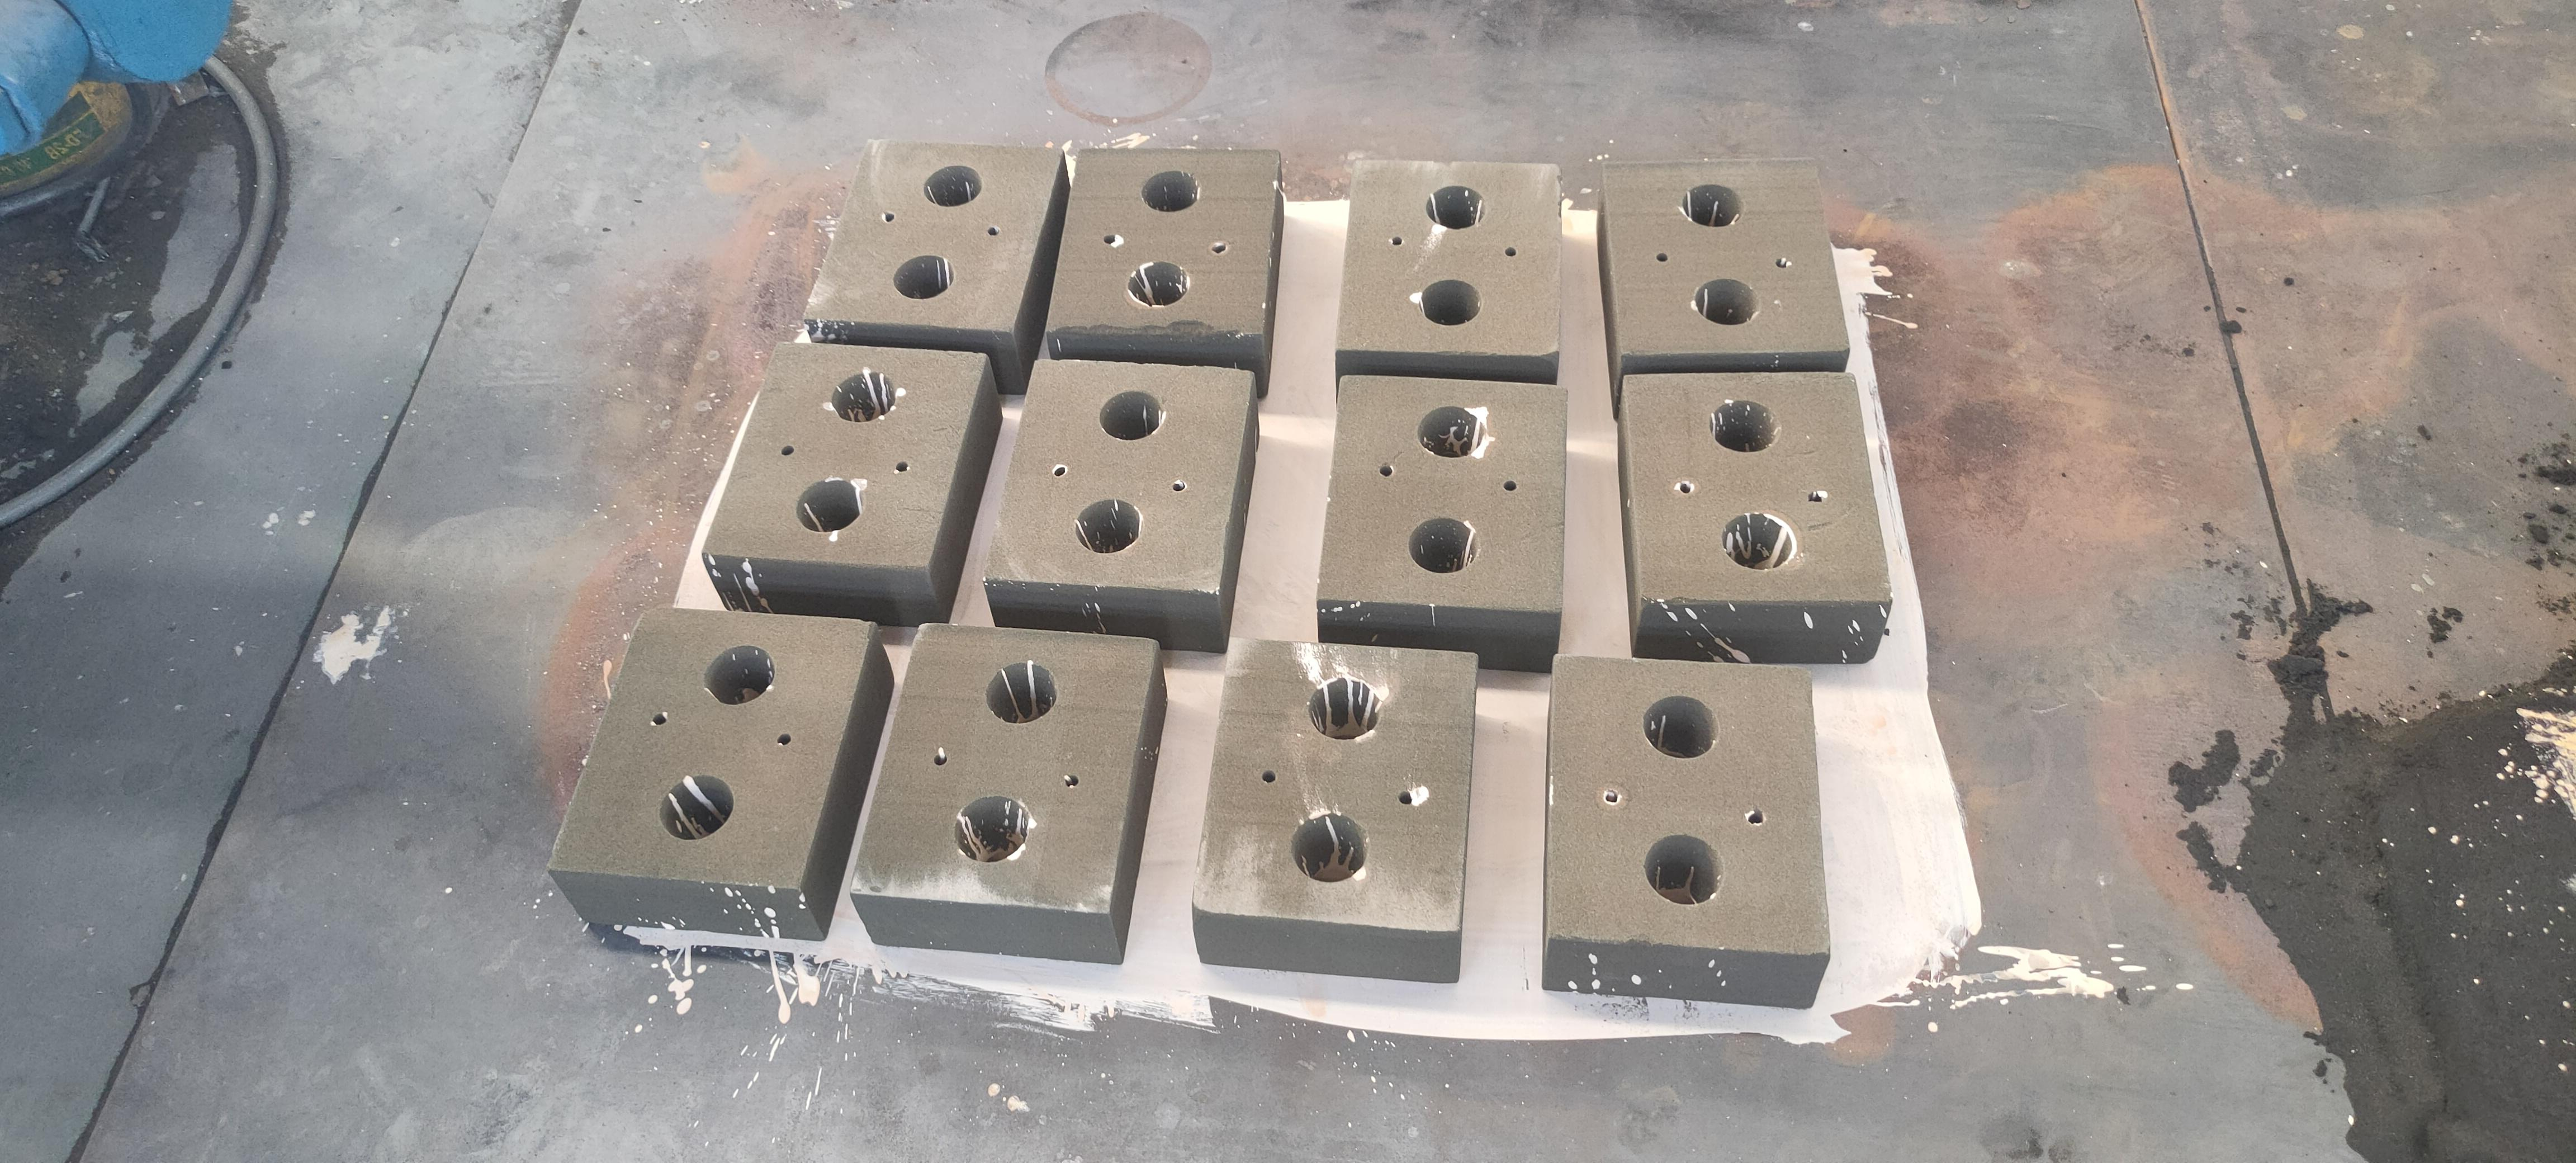pouring hole: (1643, 834, 1723, 907), (1291, 811, 1368, 882), (953, 793, 1030, 862), (659, 775, 734, 841), (1643, 696, 1720, 761), (701, 644, 775, 705), (1309, 678, 1383, 739), (1722, 511, 1797, 570), (986, 662, 1058, 723), (1406, 516, 1477, 573), (1709, 399, 1779, 453), (795, 478, 866, 531), (1418, 406, 1488, 458), (1074, 499, 1142, 554), (830, 370, 894, 422), (1101, 391, 1165, 442), (1692, 278, 1759, 324), (890, 253, 956, 299), (1125, 260, 1189, 306), (1418, 279, 1482, 325), (1681, 184, 1746, 227), (1424, 184, 1487, 228), (922, 164, 982, 207), (1140, 169, 1199, 212)
